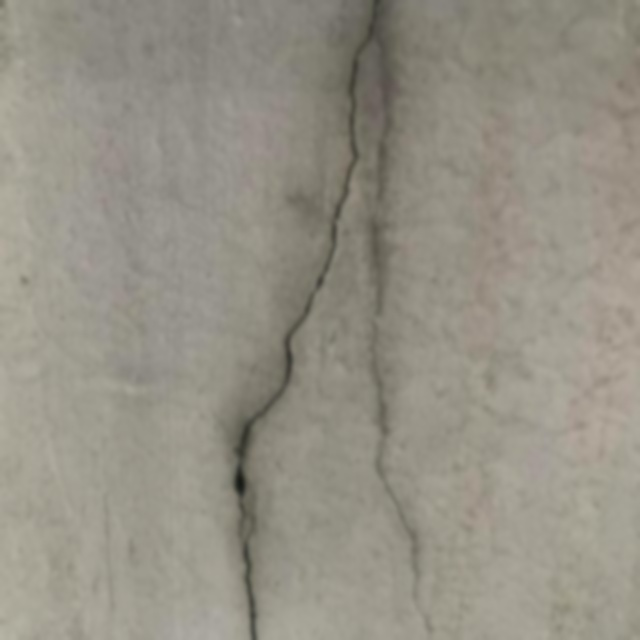SurfaceCrack: (194, 0, 458, 640)
